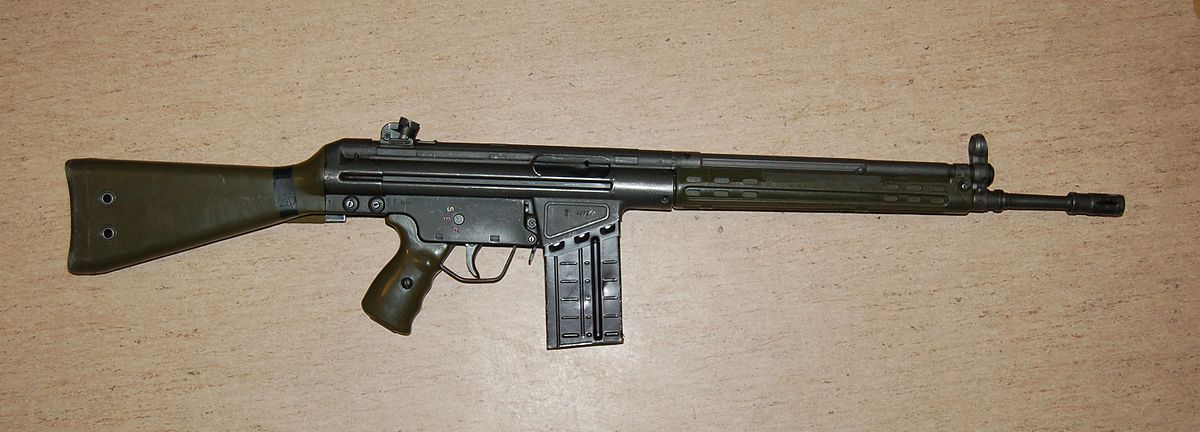Gun: (307, 136, 1126, 306)
